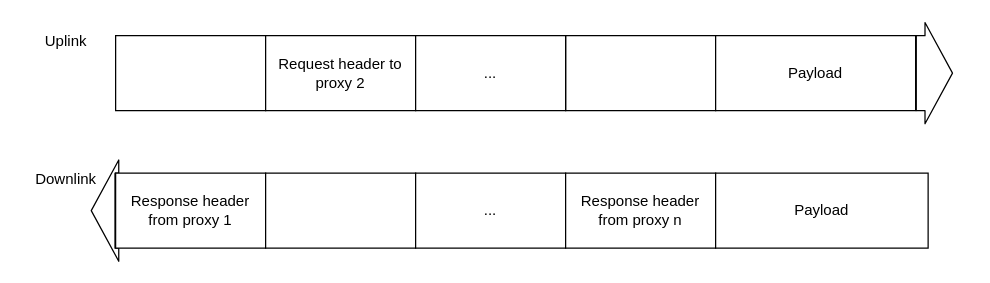
Some shapes in this 990 by 283 pixel diagram are drawn without their labels. Each missing label, with the centre of its shape:
"Request header to proxy 1" belongs at [190,72].
"Request header to proxy n" belongs at [640,72].
"Response header from proxy 2" belongs at [340,210].
